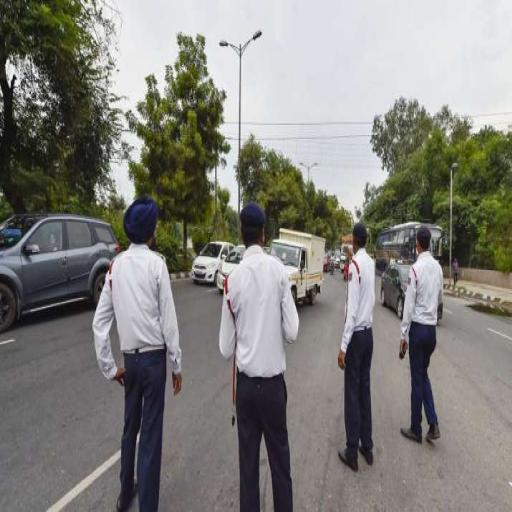helmet: (122, 194, 158, 244)
overloading: (88, 186, 451, 506)
